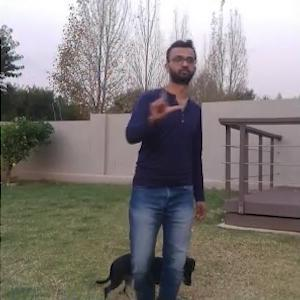land_hand: (145, 78, 185, 123)
